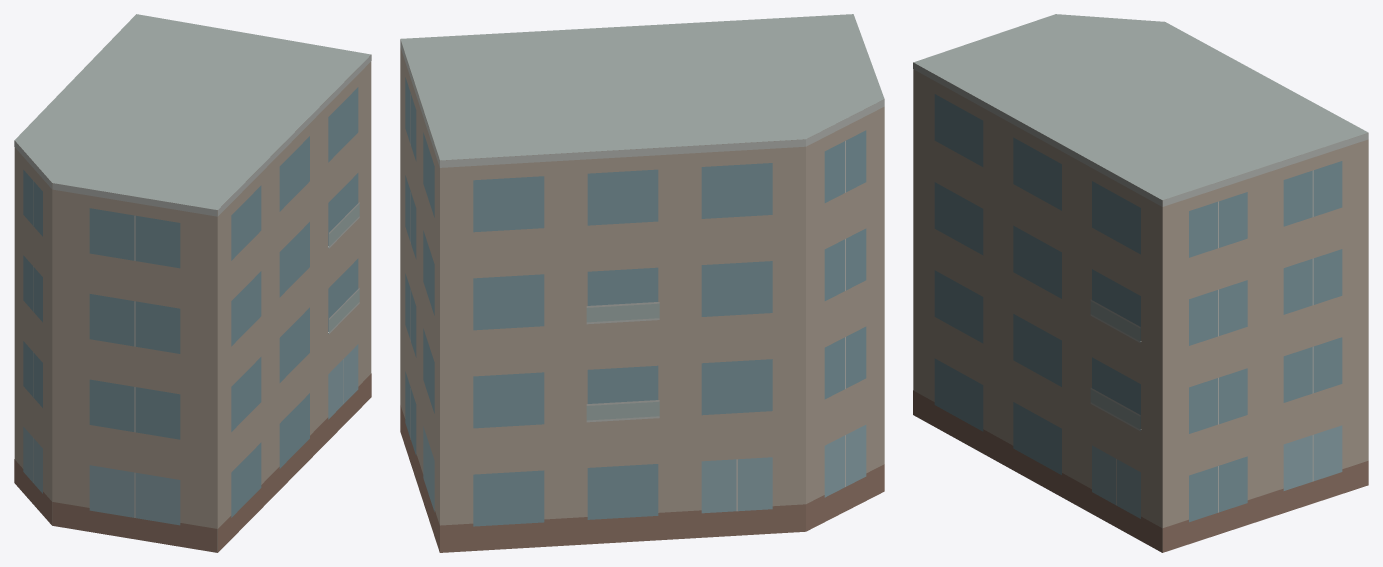
File: survey-upis-32737148.glb
The picture shows the model from 3 angles, left to right: view 1: azimuth 30°, elevation 25°; view 2: azimuth 150°, elevation 25°; view 3: azimuth 270°, elevation 25°; orthographic projection. The views are drawn at different scales.
Parts seen in each view (by area): view 1: survey-upis-32737148.tmp; view 2: survey-upis-32737148.tmp; view 3: survey-upis-32737148.tmp.
Boxes of the visible parts, x1,y1,x2,y2 form: survey-upis-32737148.tmp: [14, 14, 371, 552]; survey-upis-32737148.tmp: [400, 14, 884, 552]; survey-upis-32737148.tmp: [913, 14, 1368, 552].
Size of the model in its own units: 14.51 by 12.8 by 14.99.
